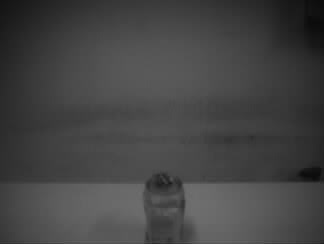Tin can: (142, 171, 186, 244)
